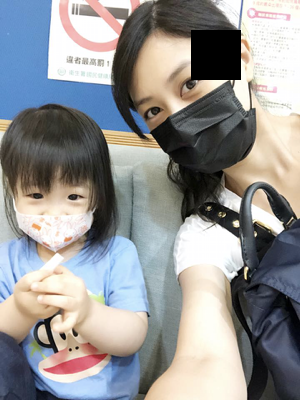with_mask: (133, 56, 258, 172), (13, 175, 97, 254)
